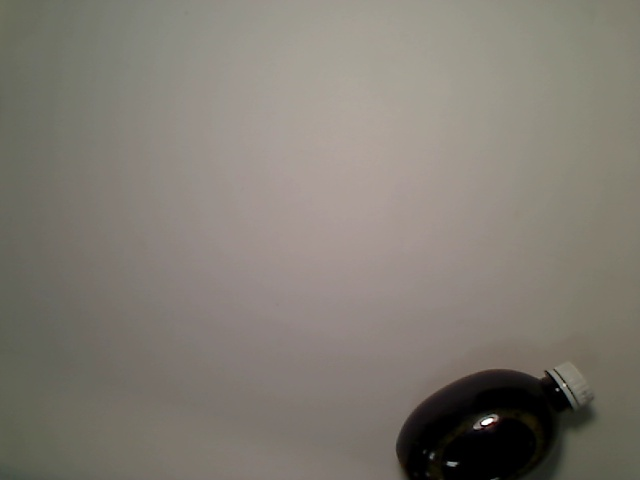plast_bottle: (392, 358, 597, 480)
